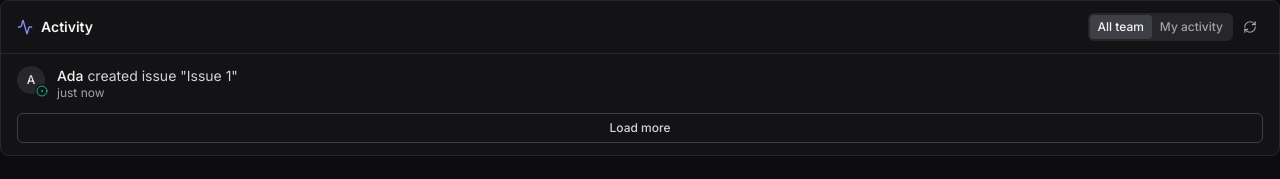
Test: ActivityFeed › loads more with the cursor and appends events
The width and height of the screenshot is (1280, 179).
Click the button "Load more". click: [640, 128]
box: [17,113,1263,143]
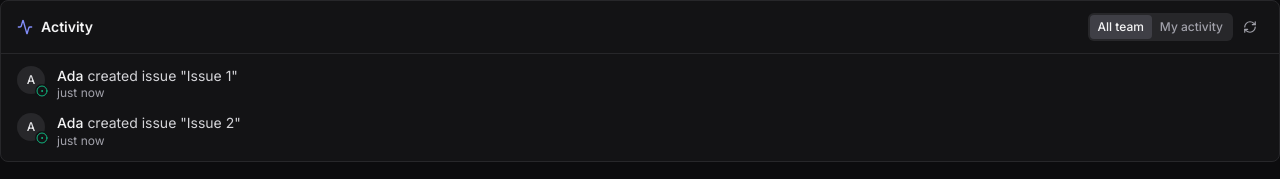
expect the number of list items with test id "feed-item" is 2: met, box [17,66,238,100]; [17,113,241,148]
expect the button "Load more" is gone: met
